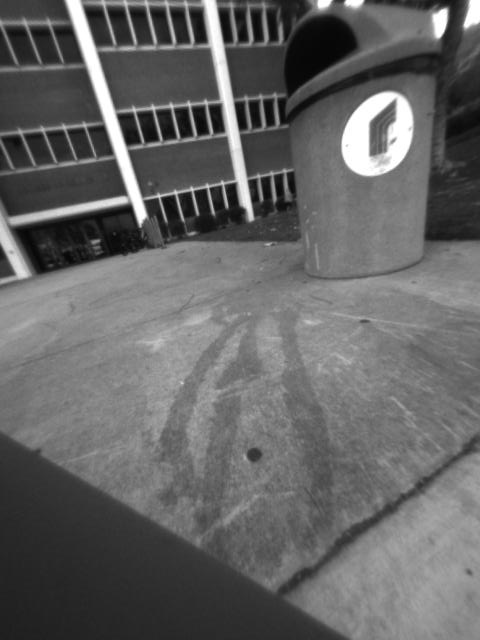trashcan: (274, 7, 441, 277)
